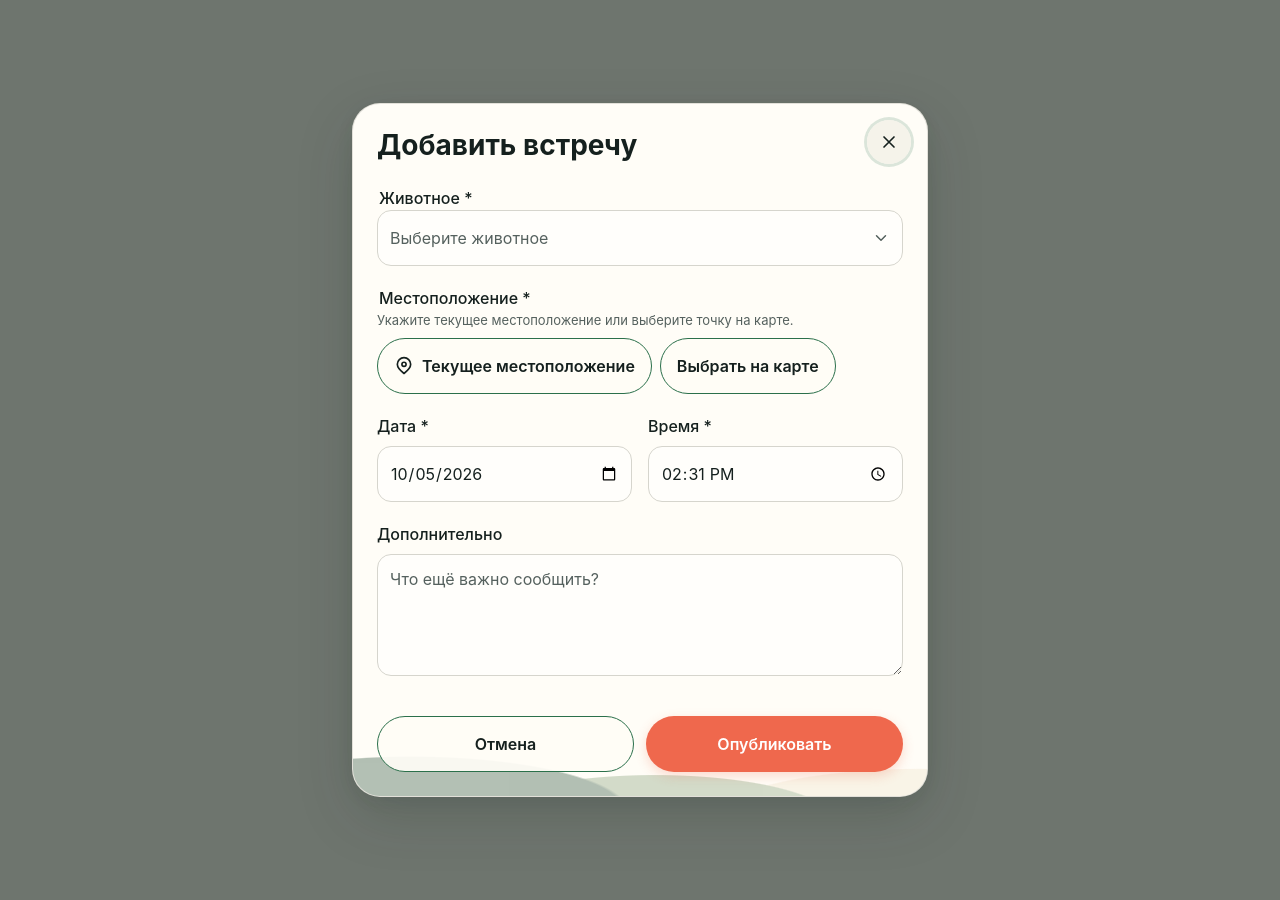
AddObservationDialog › shows validation errors for required fields
Click the button "Опубликовать".
click(774, 744)  # box x1=646 y1=716 x2=903 y2=772
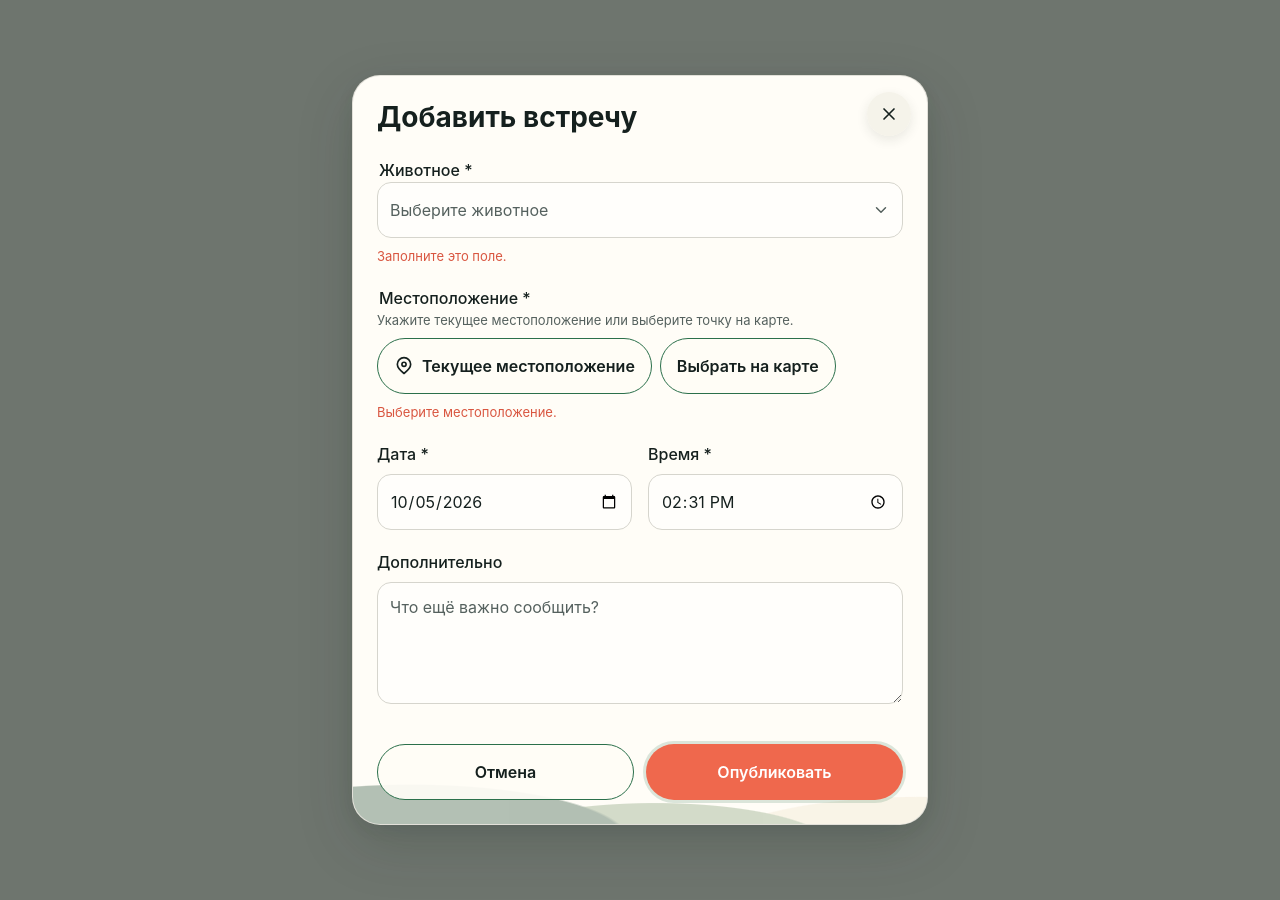
Now the text "Заполните это поле." is shown, box x1=377 y1=248 x2=507 y2=264
Now the message reads "Выберите местоположение.", box x1=377 y1=404 x2=557 y2=420
